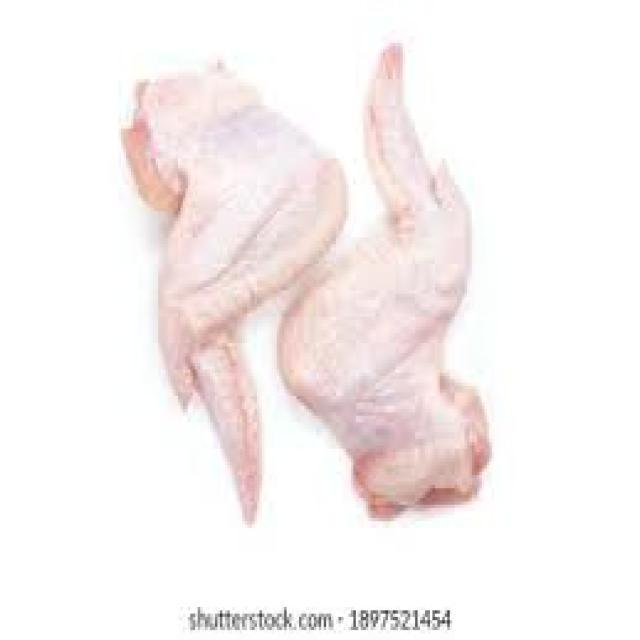wing: (116, 64, 342, 516), (292, 44, 492, 496)
